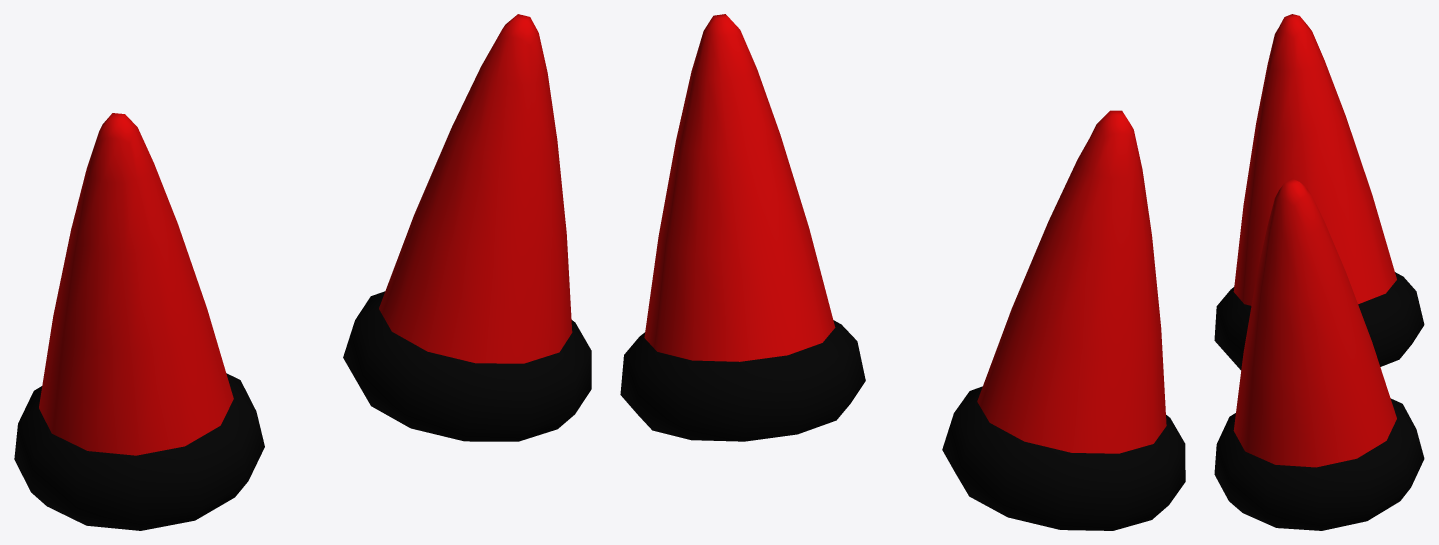
The model's file is m_DevilHorns01.fbx.
3 views of the same model, side by side, from view 1: azimuth 30°, elevation 25°; view 2: azimuth 150°, elevation 25°; view 3: azimuth 270°, elevation 25° (orthographic). The views are drawn at different scales.
Parts seen in each view (by area): view 1: m_DevilHorns01; view 2: m_DevilHorns01; view 3: m_DevilHorns01.
Boxes of the visible parts, bbox=[...] form: m_DevilHorns01: bbox=[14, 14, 591, 530]; m_DevilHorns01: bbox=[620, 14, 1185, 530]; m_DevilHorns01: bbox=[1214, 14, 1424, 530].
Size of the model in its own units: 4.95 by 3.42 by 1.98.
